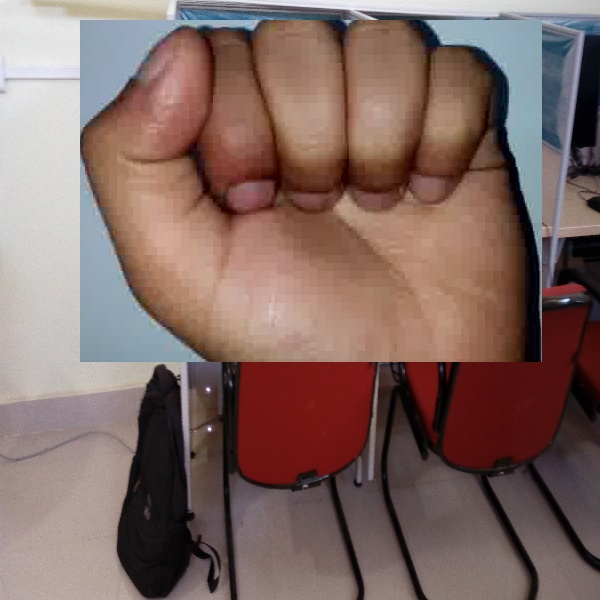A: (80, 20, 542, 362)
